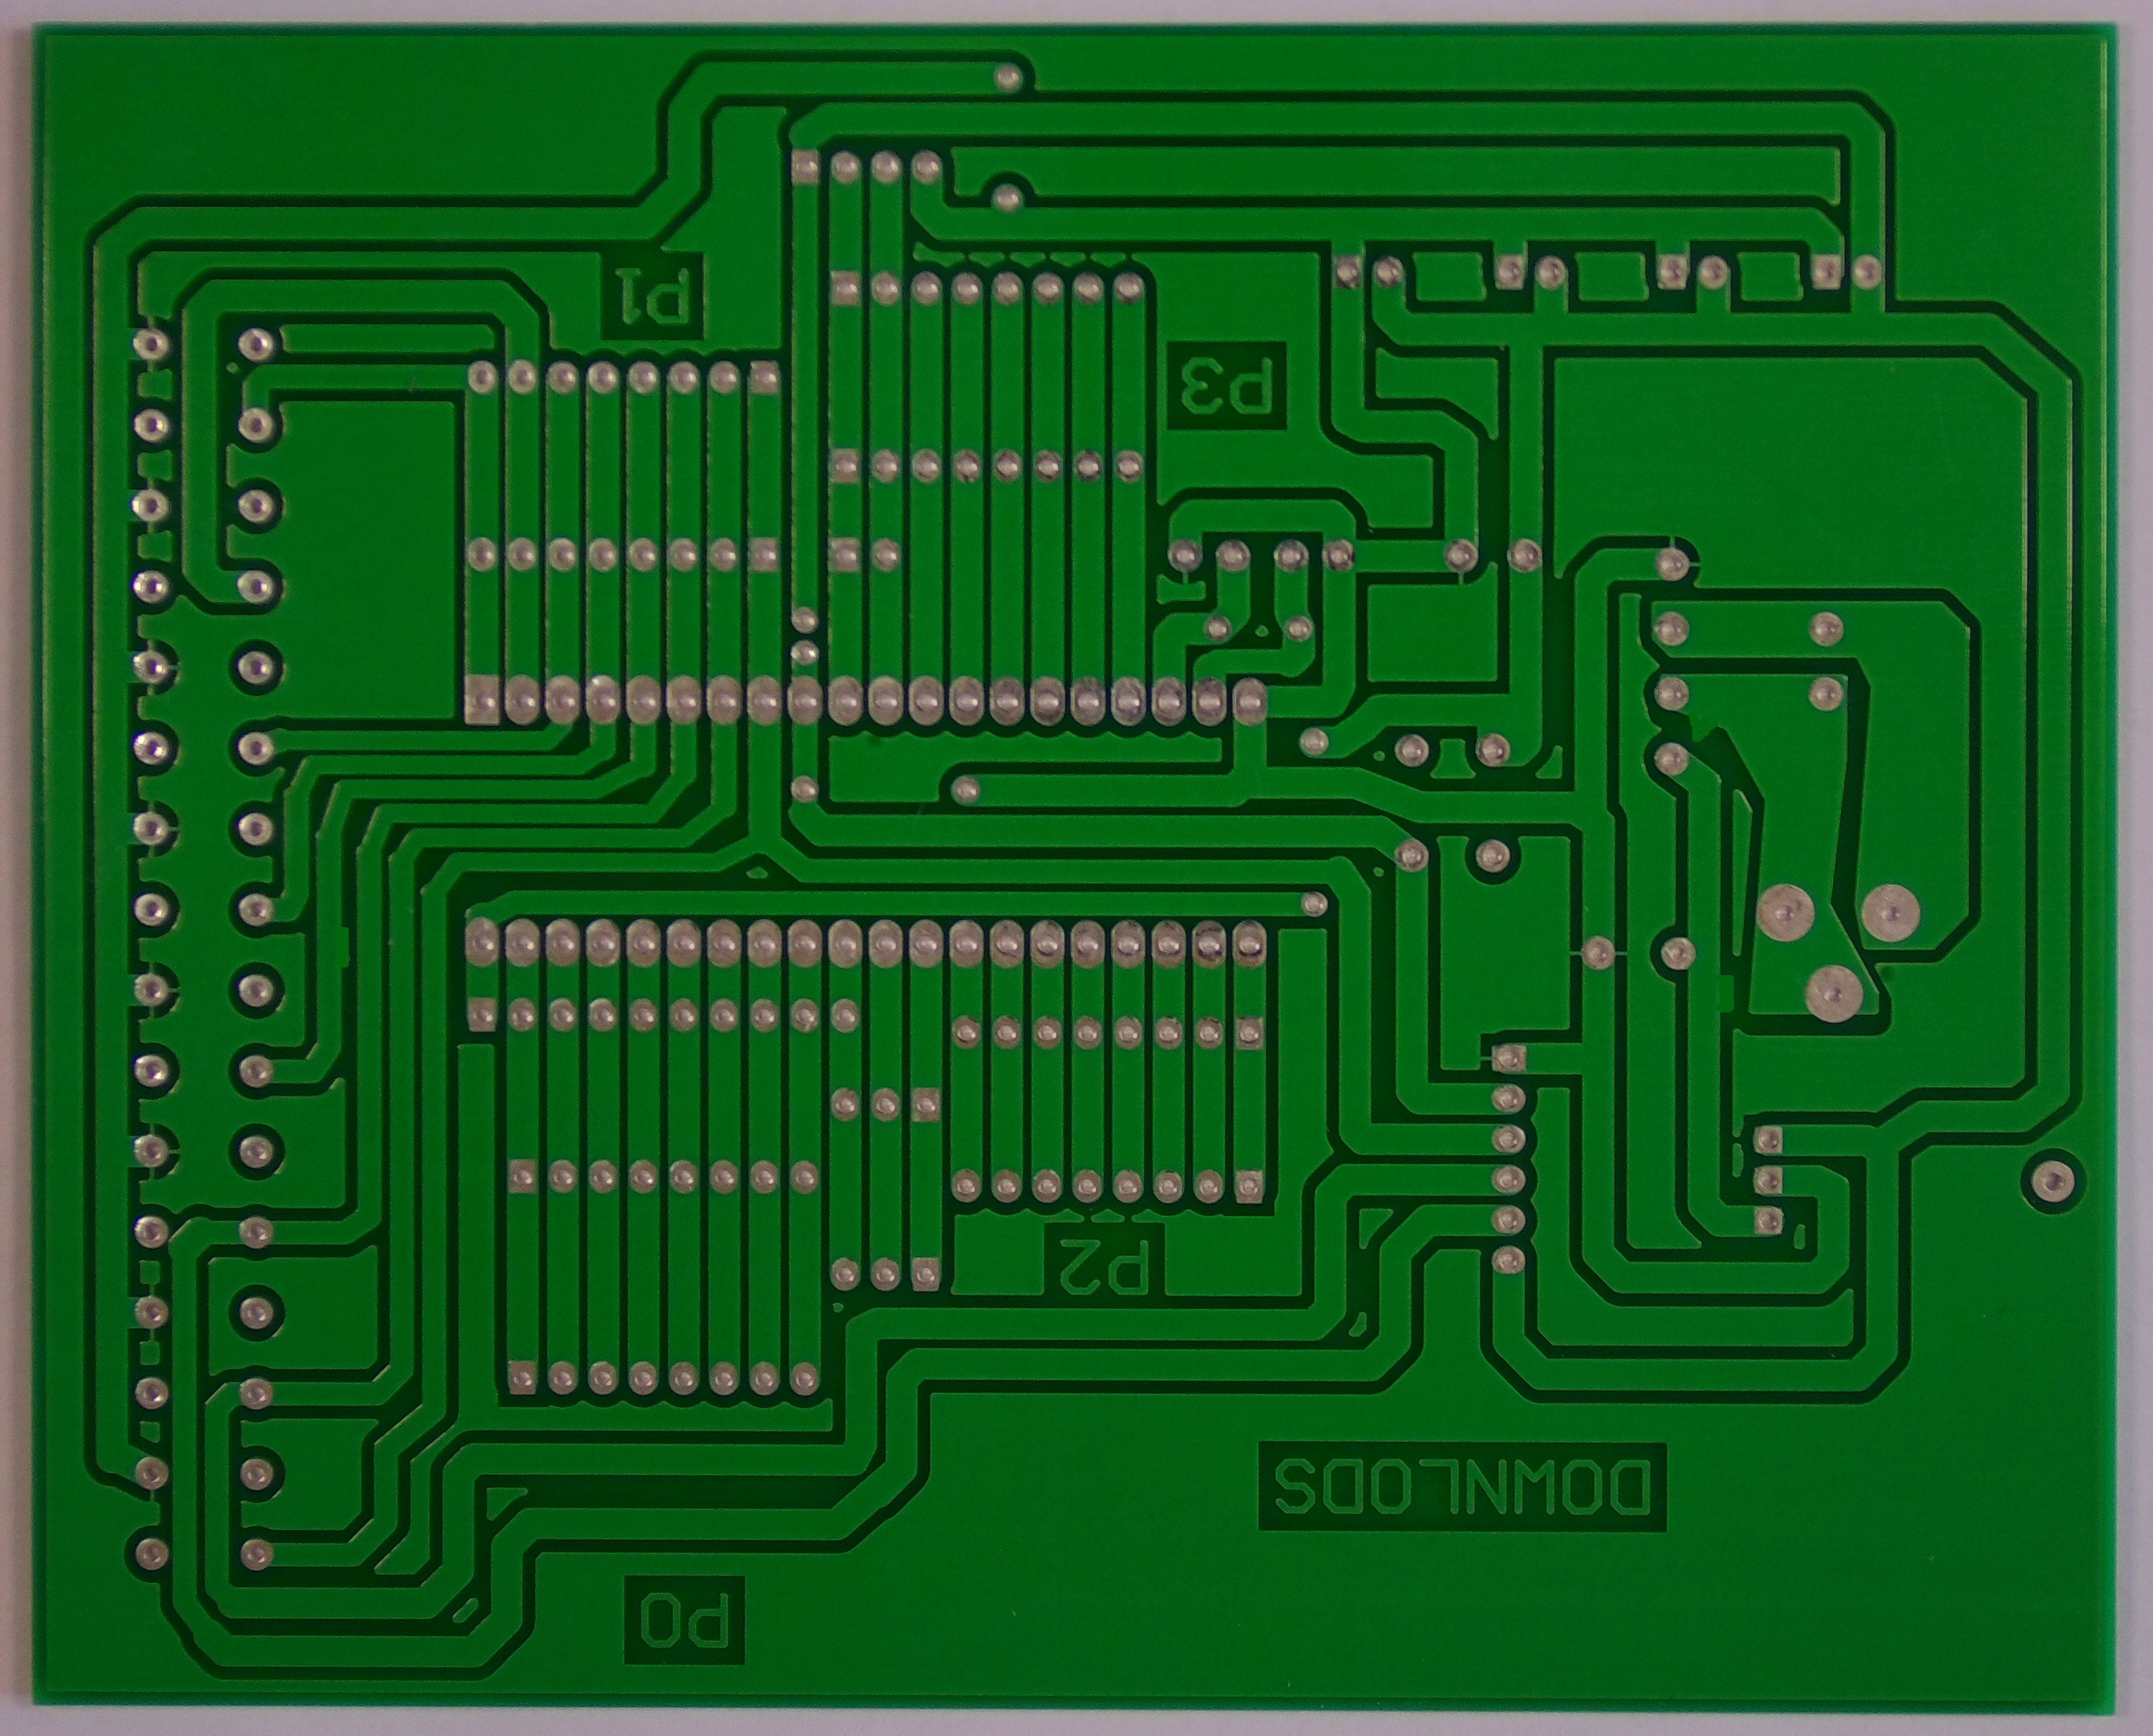spur: (322, 912, 359, 981), (1703, 964, 1742, 1028), (1681, 706, 1734, 750)
